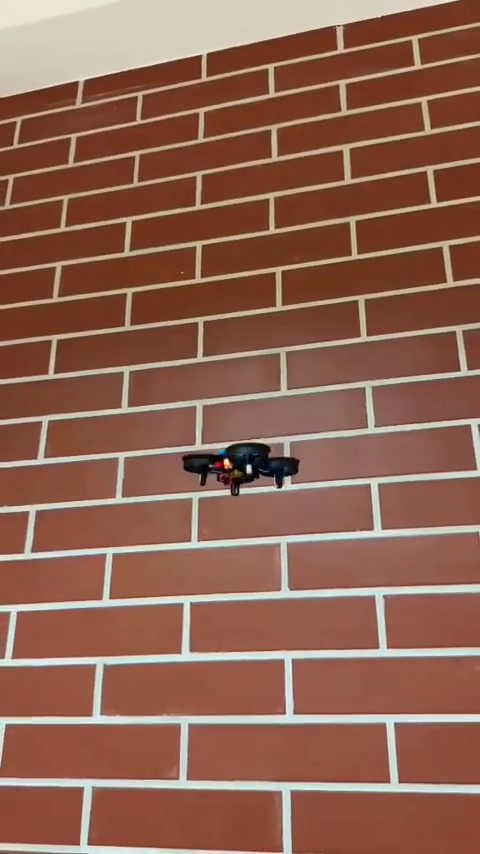drone: (184, 440, 301, 502)
